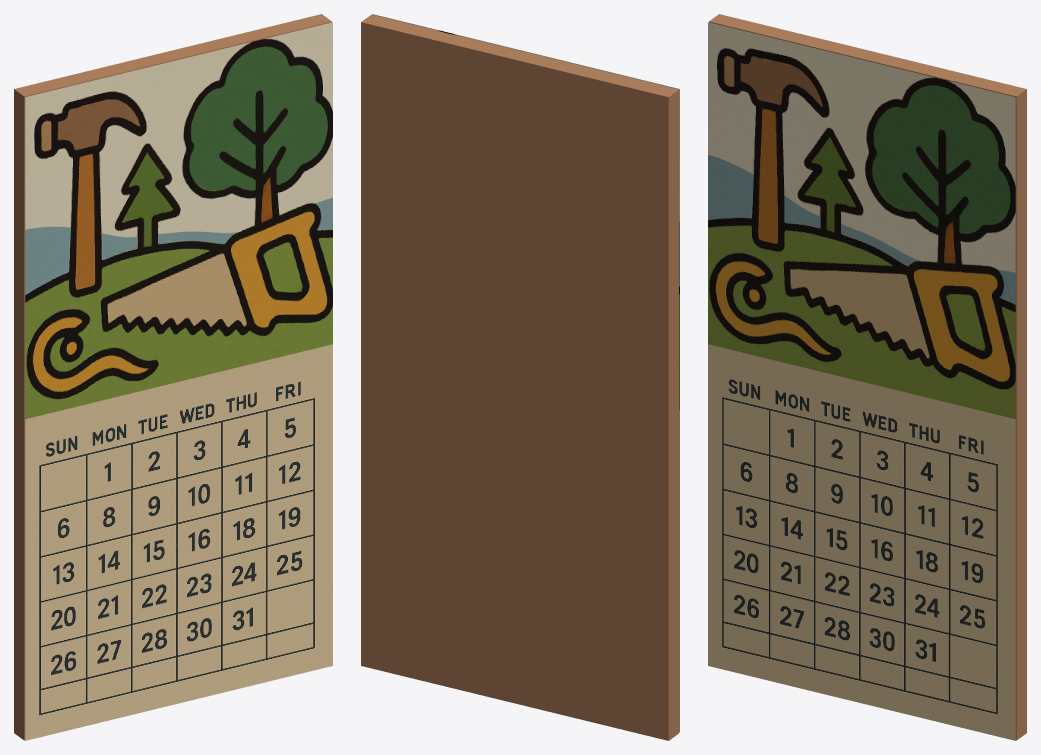
File: Calendar.fbx
3 renders of one model, left to right at view 1: azimuth 30°, elevation 25°; view 2: azimuth 150°, elevation 25°; view 3: azimuth 330°, elevation 25°, orthographic.
Visible parts, largest first — view 1: Calendar, Plane; view 2: Plane, Calendar; view 3: Calendar, Plane.
Boxes of the visible parts, x1,y1,x2,y2 form: Calendar: [25, 22, 332, 740]; Plane: [14, 14, 331, 740]; Plane: [361, 14, 678, 740]; Calendar: [372, 14, 679, 732]; Calendar: [708, 22, 1015, 740]; Plane: [709, 14, 1026, 740].
Size of the model in its own units: 44.96 by 2.83 by 89.93.
3 materials, 2 textured.
